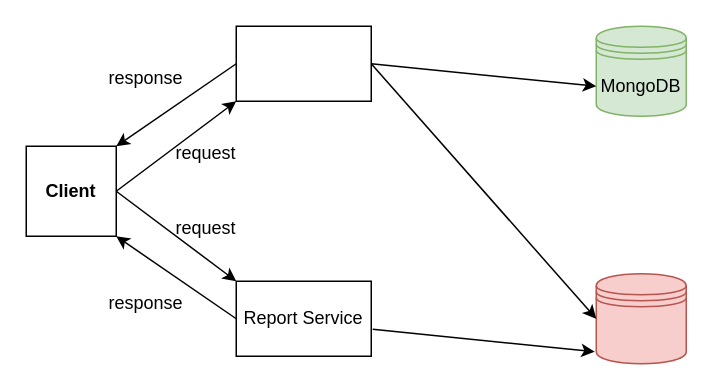
Image size: 713x392. Some labels were removed from this diagram. The shapes that lost their labels are listed below. From the top down, each one's centre as x and y in pixels, then its label:
At (303,63): "Fire Extinguisher Service".
At (640,318): "Redis".
